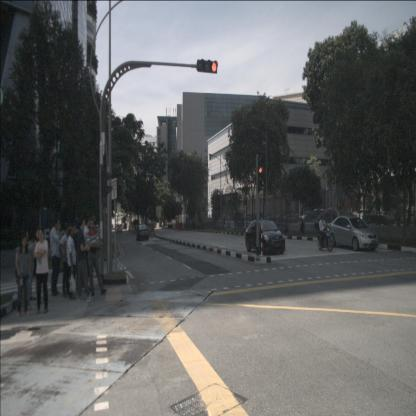human-pedestrian-adult: (85, 219, 107, 297), (77, 213, 95, 302), (15, 236, 32, 318), (33, 228, 49, 314), (80, 217, 94, 292), (59, 224, 72, 298), (50, 218, 62, 298), (66, 224, 78, 300), (69, 223, 80, 295), (331, 215, 336, 242), (241, 214, 245, 229), (223, 215, 226, 229)
vehicle-car: (328, 215, 379, 251), (245, 220, 285, 255), (300, 209, 325, 225), (356, 209, 379, 225), (377, 211, 394, 225), (136, 224, 149, 241), (282, 214, 300, 225), (244, 213, 256, 222), (116, 224, 122, 233)
vehicle-motorcycle: (314, 214, 333, 252)
